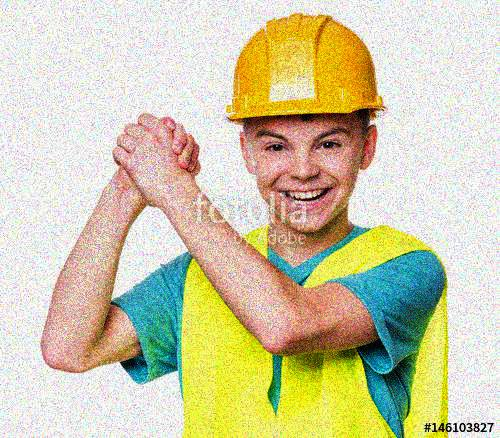helmet: (225, 12, 386, 231)
